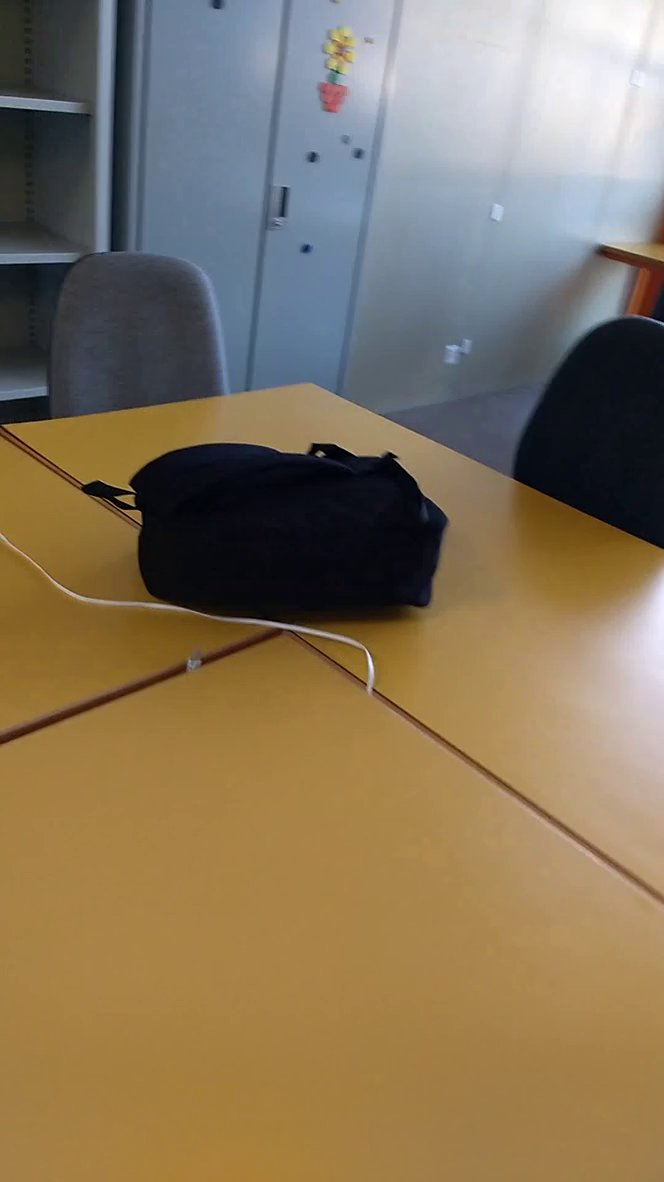bag: (77, 430, 466, 640)
chair: (497, 289, 664, 556), (36, 230, 252, 433)
